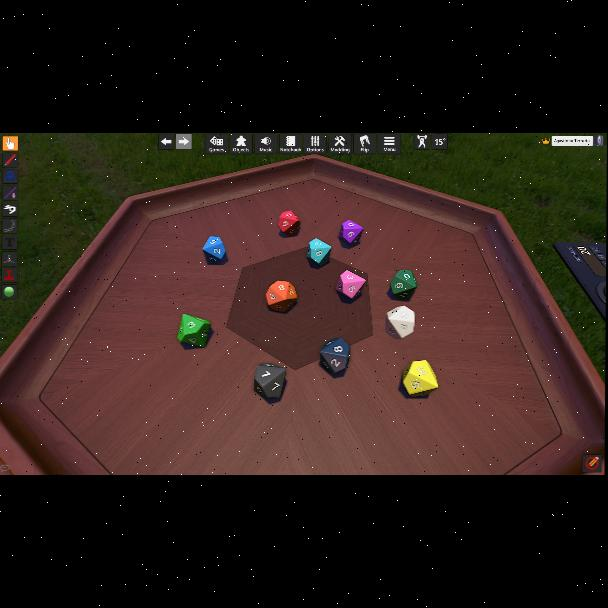d10: (402, 360, 437, 396), (254, 363, 287, 400), (177, 314, 212, 348), (319, 338, 349, 374), (266, 280, 298, 312), (386, 306, 413, 338), (336, 270, 364, 300), (389, 271, 416, 301), (336, 220, 361, 246), (306, 238, 330, 264), (203, 235, 226, 262), (278, 209, 300, 236)
